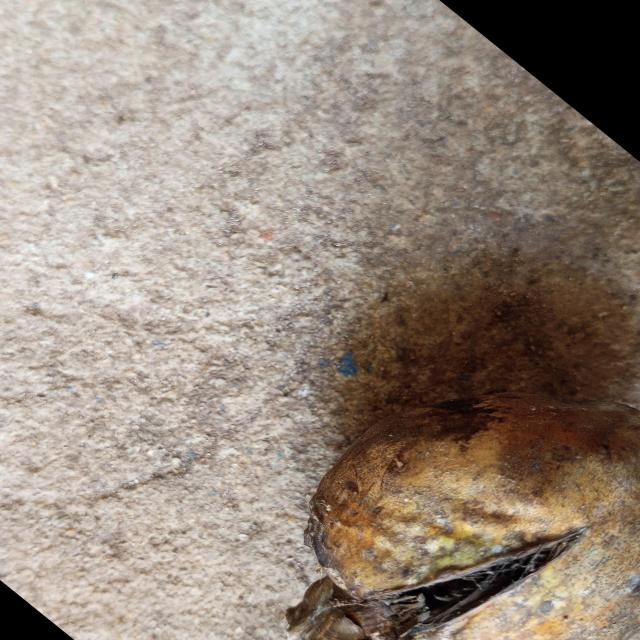damaged: (287, 393, 640, 640)
